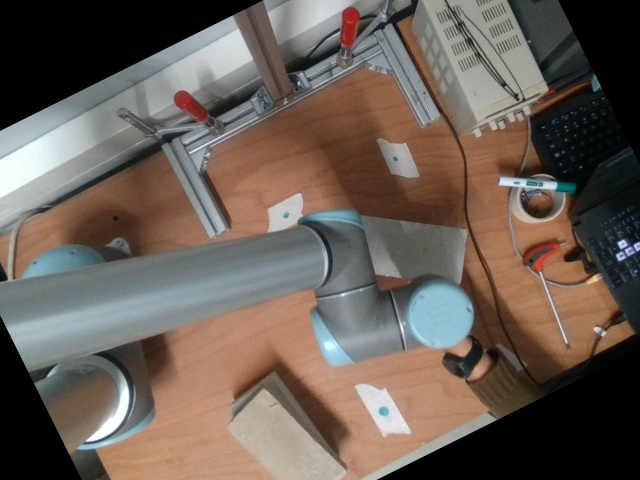brick: (227, 392, 345, 479)
